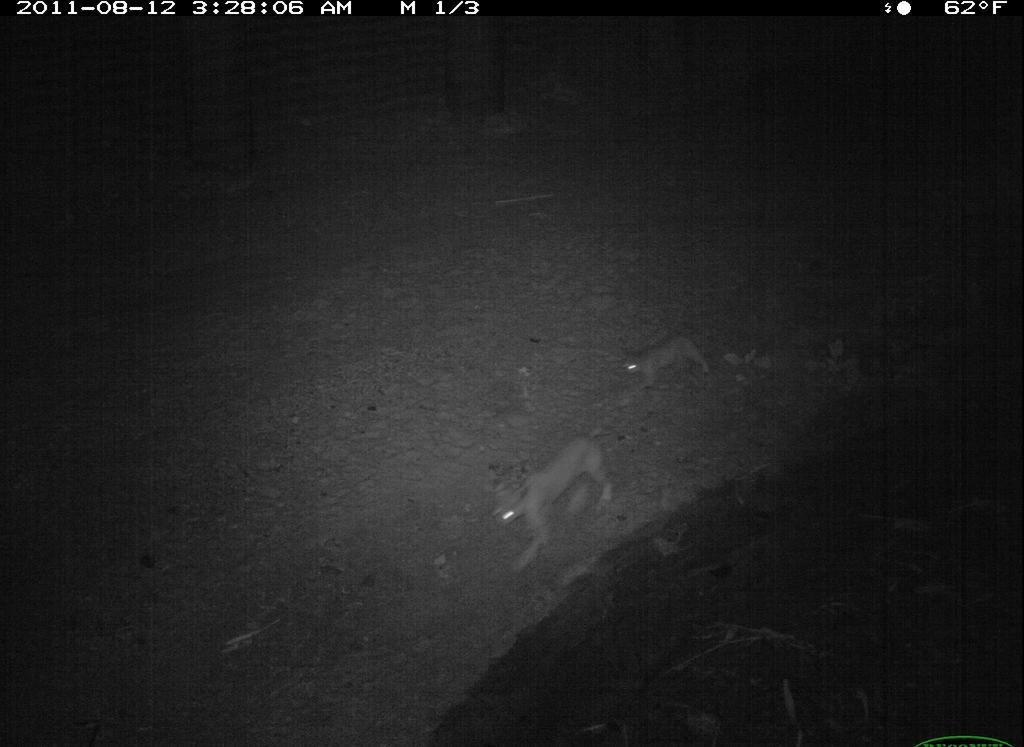bobcat: (487, 432, 621, 578), (617, 329, 715, 400)
